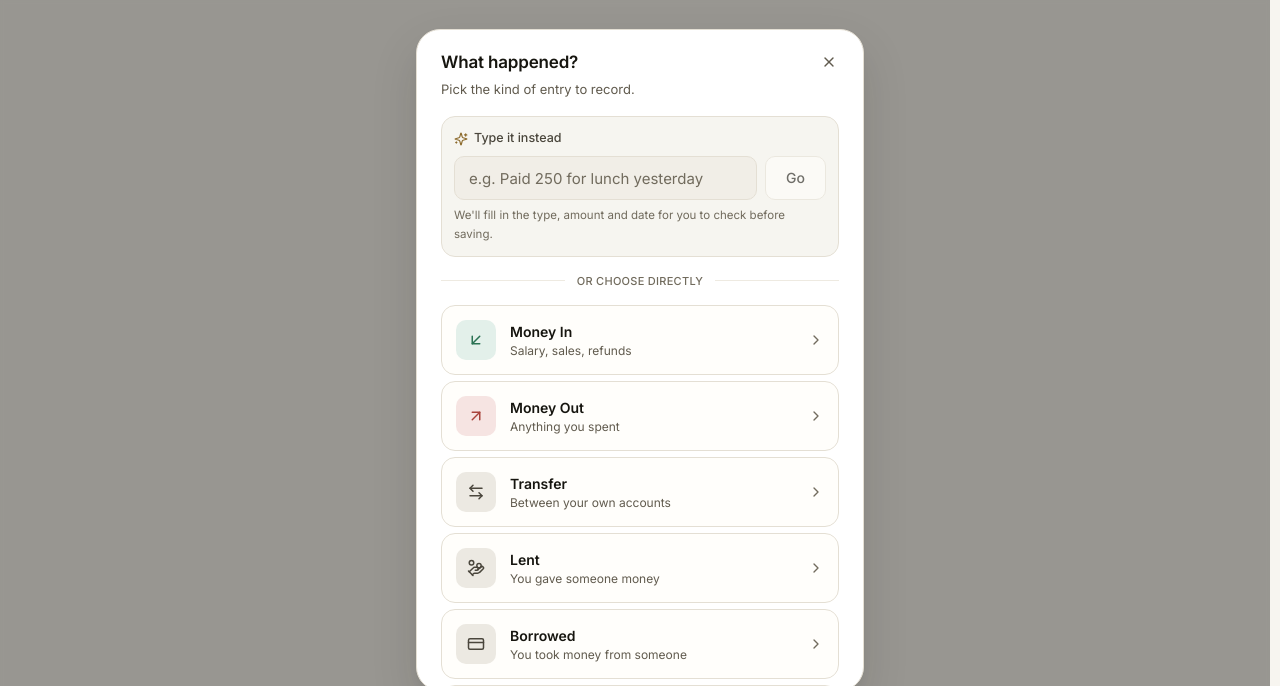
Scenario: <QuickAddSheet> typed entry reads accounts and asks about the rest (§Phase 2) › prefills both ends of a transfer
Step 1. Type "Transferred 5000 from Bank to Cash" into the field with id "nl-quick-entry" → (606, 178), box [454, 156, 757, 200]
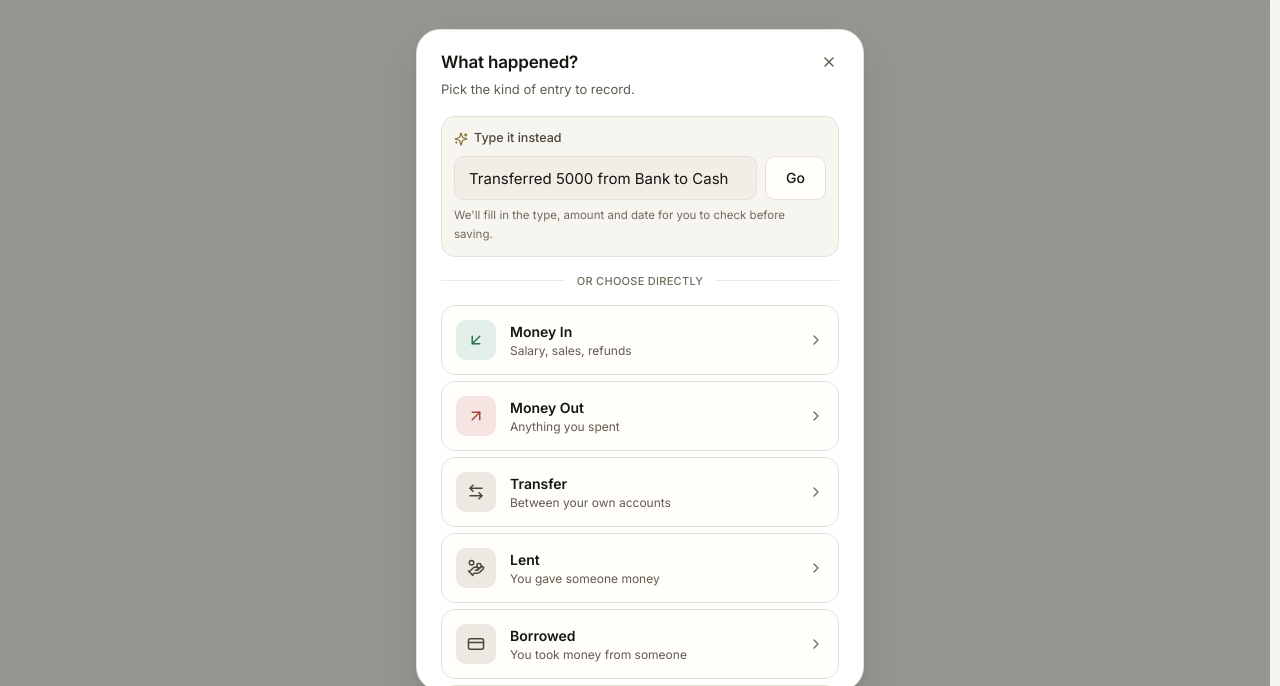
Step 2. Click the button "Go" → (796, 178), box [765, 156, 826, 200]
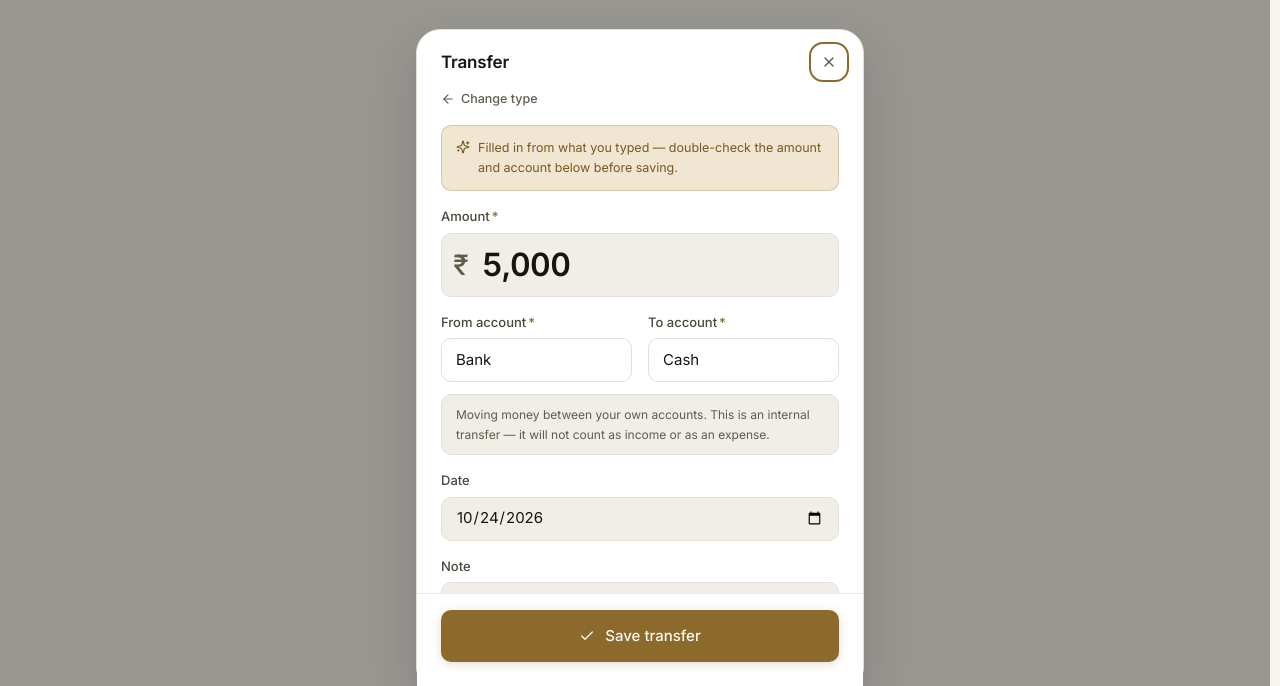
Expected: the dropdown labelled "From account*" shows "Bank", [441, 338, 632, 382]
Expected: the dropdown labelled "To account*" shows "Cash", [648, 338, 839, 382]
